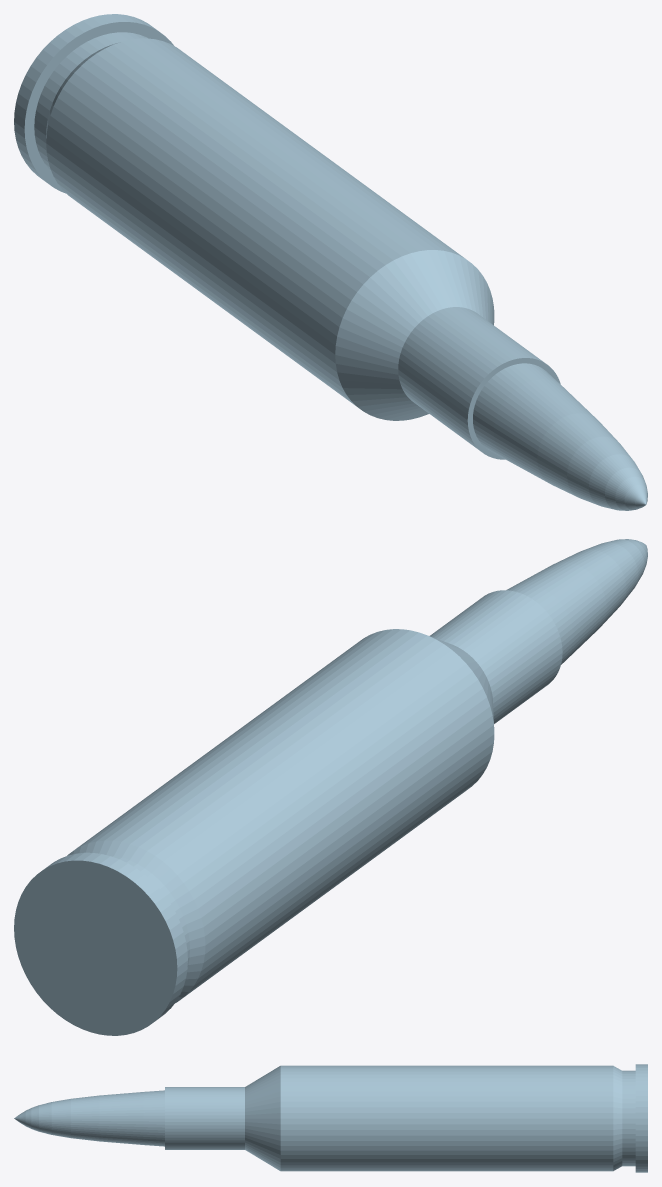
File: projectile.glb
3 views of the same model, one above another, from view 1: azimuth 30°, elevation 25°; view 2: azimuth 150°, elevation 25°; view 3: azimuth 270°, elevation 25° (orthographic). The views are drawn at different scales.
Visible parts, largest first — view 1: Projectile surface; view 2: Projectile surface; view 3: Projectile surface.
Boxes of the visible parts, x1,y1,x2,y2 form: Projectile surface: (14,14,647,510); Projectile surface: (14,539,647,1035); Projectile surface: (14,1064,647,1172).
Size of the model in its own units: 0.0262 by 0.0262 by 0.1532.
